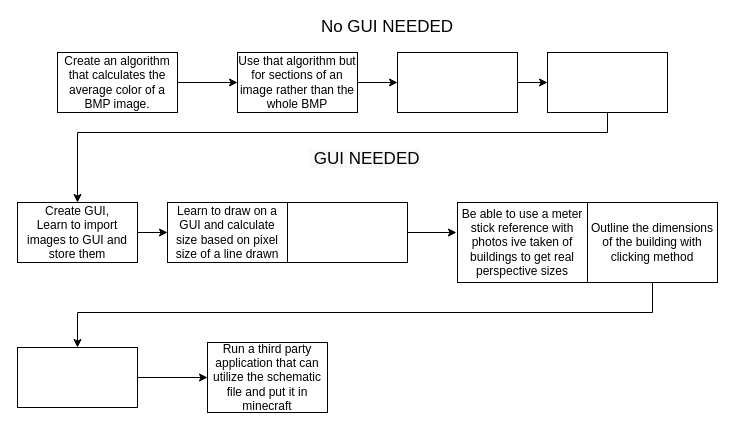
The diagram is 735 pixels wide and 430 high, and some of its shapes have lost their labels. Here are the shapes that lost their labels. From the top down, the centre of each, then its label:
point (457, 82): Use the color averages of sections to find the Minecraft block equivalent
point (607, 82): Construct a 2d image of what the conversion would look like
point (347, 232): Import a google maps screen shots to get dimensions of a building
point (77, 377): Convert data into the minecraft schematic file type
